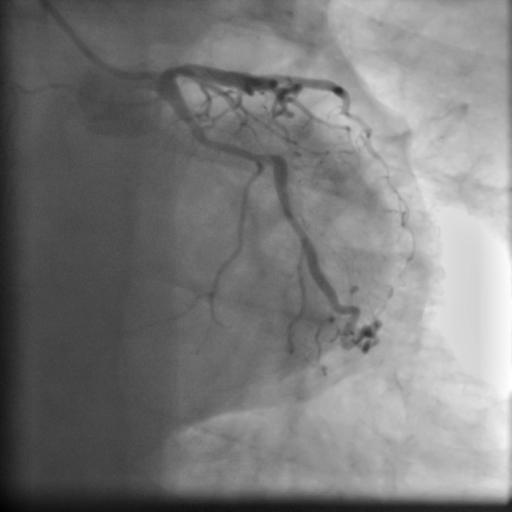Stenosis: (254, 147, 283, 167)
